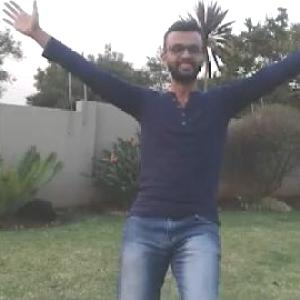takeoff: (5, 10, 299, 299)
